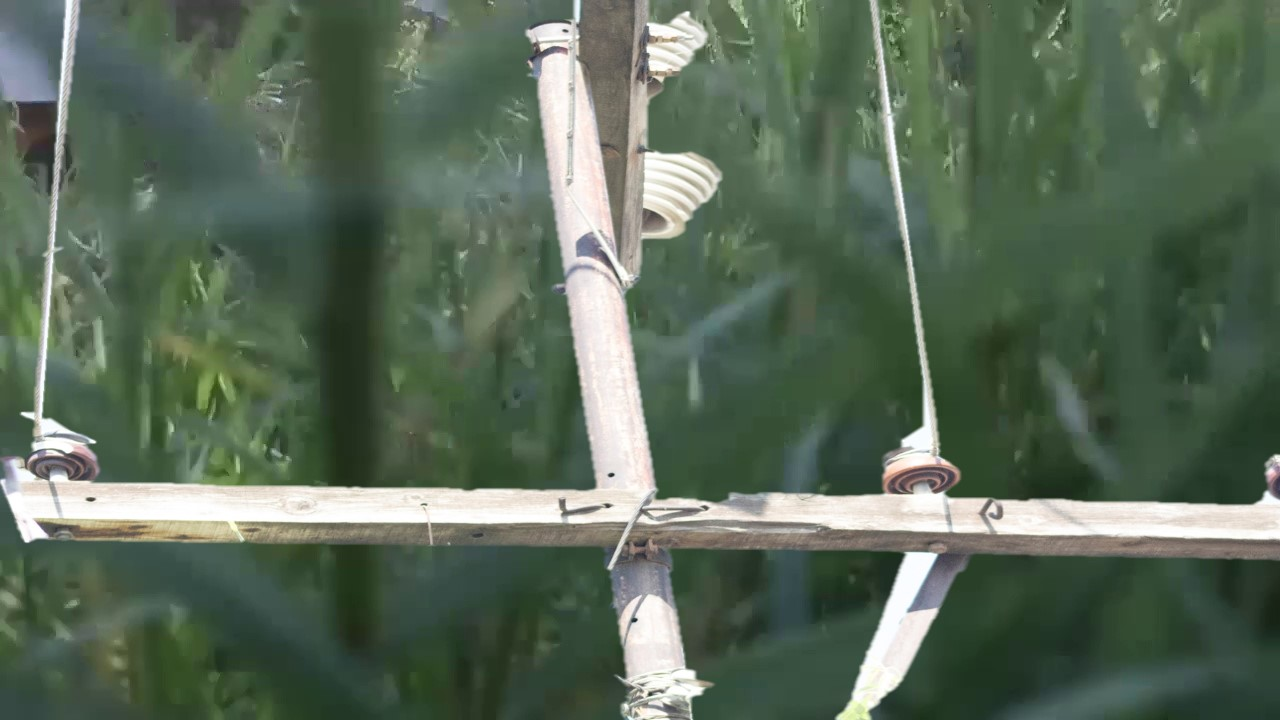defect_pin: (24, 410, 101, 483)
insulator_pin: (883, 446, 967, 494)
